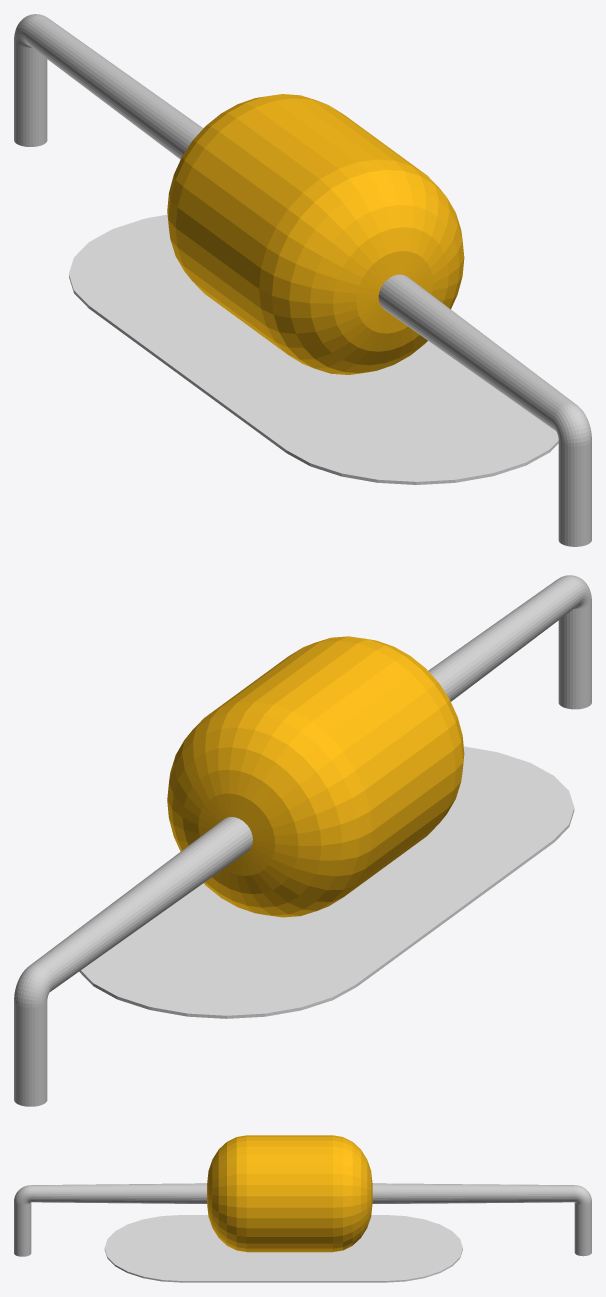
3 views of the same model, one above another, from view 1: azimuth 30°, elevation 25°; view 2: azimuth 150°, elevation 25°; view 3: azimuth 270°, elevation 25° (orthographic). The views are drawn at different scales.
Visible parts, largest first — view 1: Y_4, Y_4_plane; view 2: Y_4, Y_4_plane; view 3: Y_4, Y_4_plane.
Part boxes in pixels (x1=…): Y_4: x1=14, y1=14, x2=591, y2=546; Y_4_plane: x1=69, y1=214, x2=558, y2=484; Y_4: x1=14, y1=575, x2=591, y2=1106; Y_4_plane: x1=79, y1=746, x2=574, y2=1018; Y_4: x1=14, y1=1135, x2=591, y2=1256; Y_4_plane: x1=104, y1=1215, x2=462, y2=1282.
Bounding box in the file's own units: 0.018 × 0.0143 × 0.0666.
